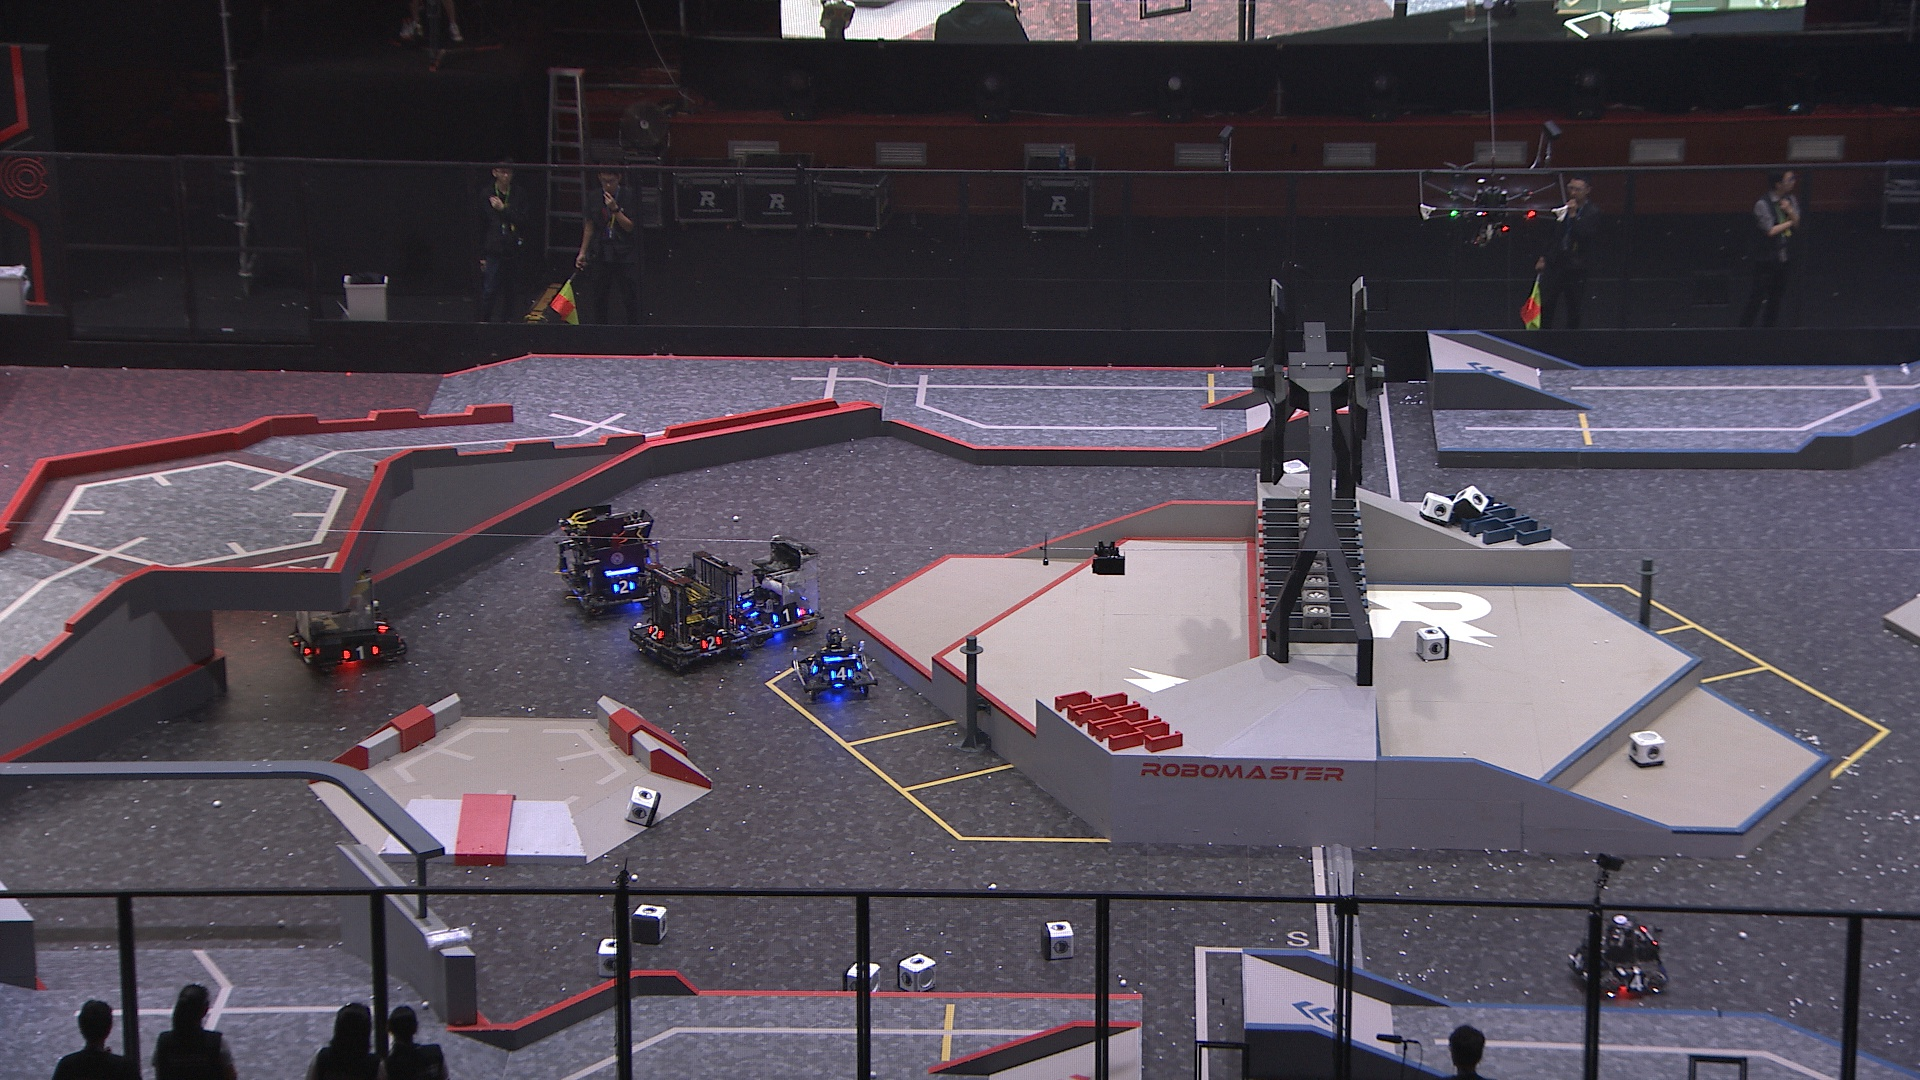armor: (343, 642, 380, 661), (769, 603, 800, 624), (1623, 972, 1654, 992), (825, 665, 855, 683), (291, 636, 313, 659), (1567, 948, 1586, 973), (611, 578, 637, 595), (699, 633, 723, 651), (646, 621, 666, 641), (804, 655, 818, 676)
car: (624, 551, 752, 673), (553, 498, 674, 615), (285, 564, 409, 673), (727, 531, 831, 651), (1565, 911, 1675, 996), (795, 624, 874, 707)
